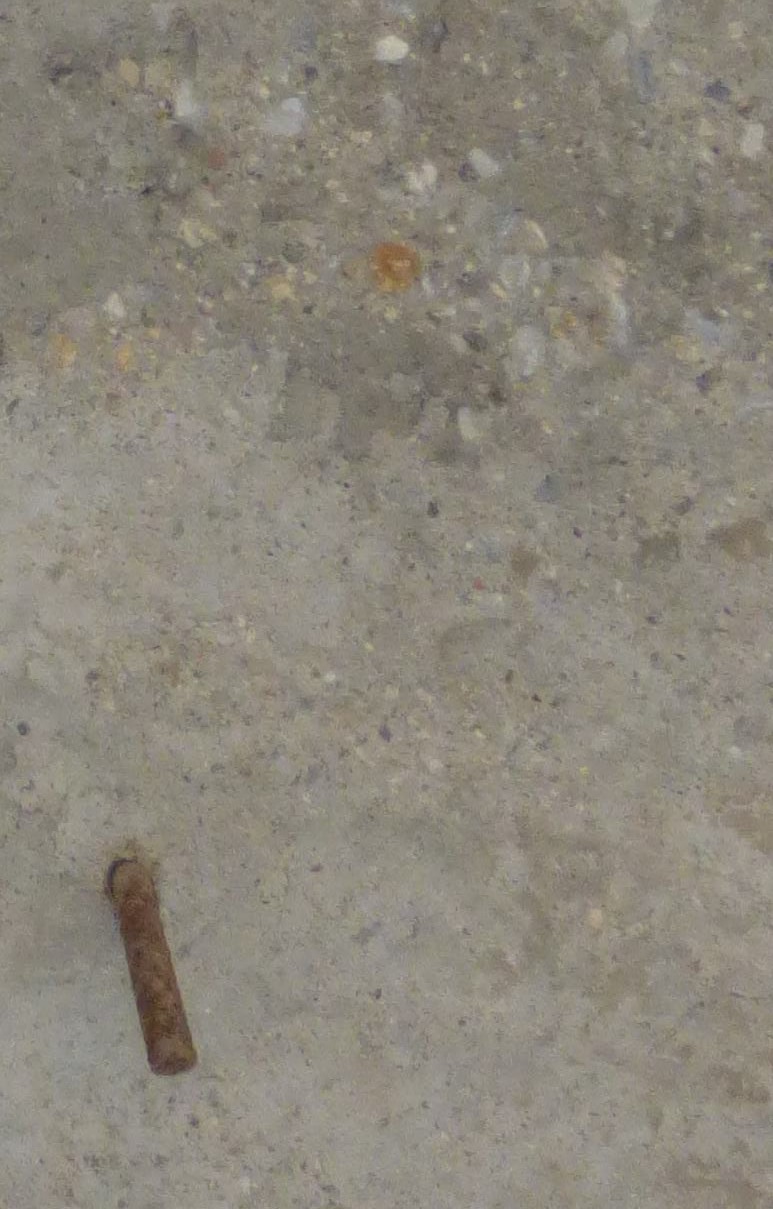Exposed reinforcement: (112, 861, 197, 1076)
